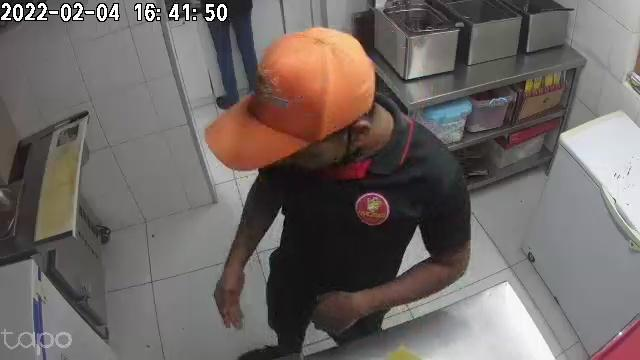no_gloves: (213, 254, 251, 331)
